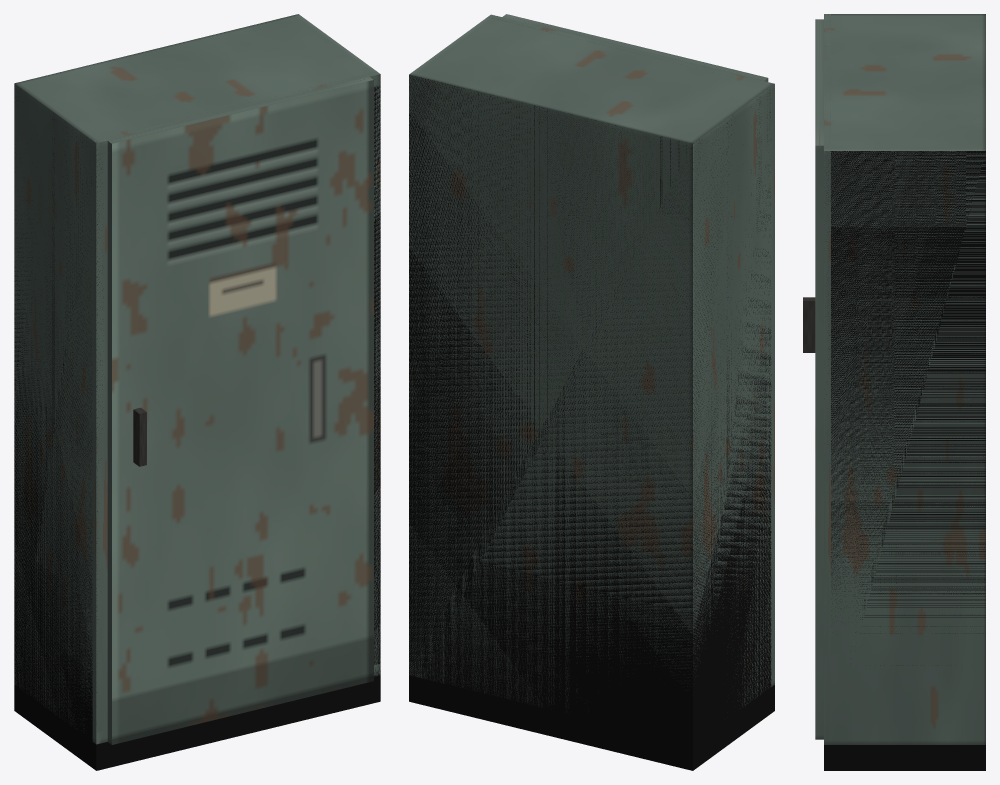
File: locker.fbx
The picture shows the model from 3 angles, left to right: view 1: azimuth 30°, elevation 25°; view 2: azimuth 150°, elevation 25°; view 3: azimuth 270°, elevation 25°; orthographic projection.
Parts seen in each view (by area): view 1: door, locker, col_body; view 2: locker, col_body, door; view 3: locker, col_body, door.
Boxes of the visible parts, bbox=[...] form: door: bbox=[107, 76, 373, 744]; locker: bbox=[14, 14, 380, 744]; col_body: bbox=[14, 85, 380, 770]; locker: bbox=[409, 14, 774, 713]; col_body: bbox=[409, 75, 774, 770]; door: bbox=[502, 14, 768, 81]; locker: bbox=[824, 14, 985, 744]; col_body: bbox=[824, 151, 985, 770]; door: bbox=[803, 19, 823, 739].
Size of the model in its own units: 0.9 by 1.9 by 0.508.
Materials: 1 (1 with a texture image).
